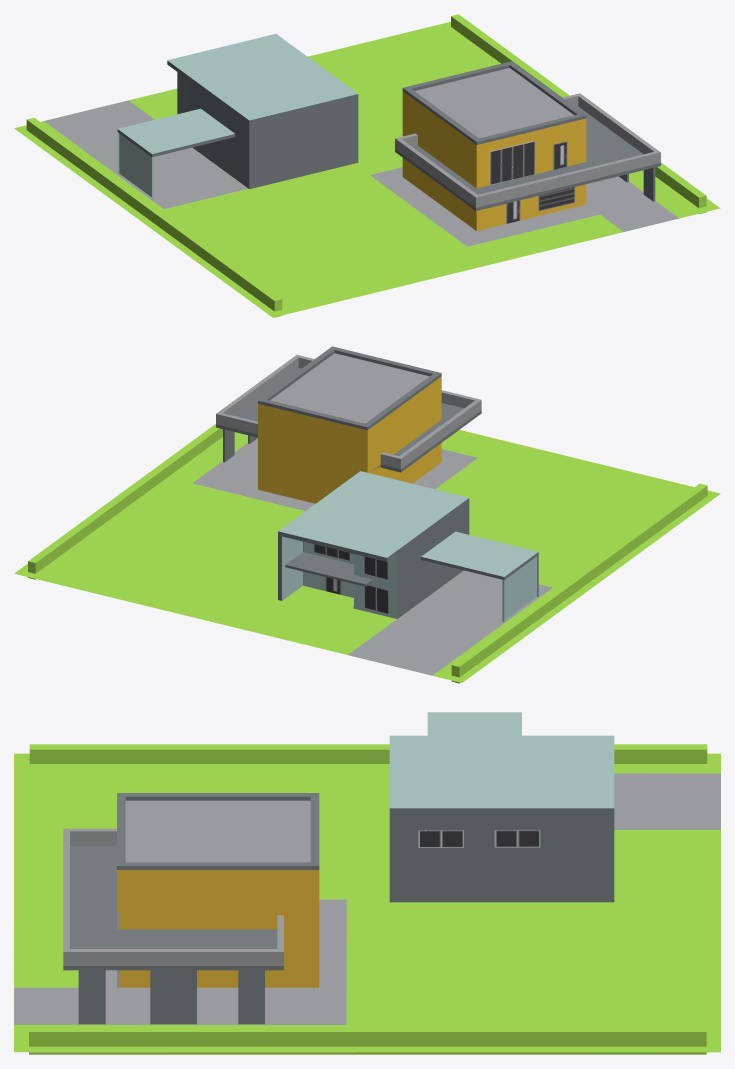
File: 2maisons_3.glb
3 renders of one model, top to bottom at view 1: azimuth 30°, elevation 25°; view 2: azimuth 150°, elevation 25°; view 3: azimuth 270°, elevation 25°, orthographic. The views are drawn at different scales.
Parts seen in each view (by area): view 1: Plan; view 2: Plan; view 3: Plan.
Part boxes in pixels (x1=…): Plan: x1=14, y1=14, x2=720, y2=317; Plan: x1=14, y1=346, x2=720, y2=683; Plan: x1=14, y1=712, x2=720, y2=1054.
Size of the model in its own units: 15 by 3.26 by 15.
1 material, 1 textured.
